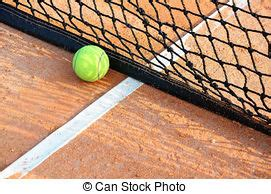tennis_ball: (72, 44, 109, 82)
